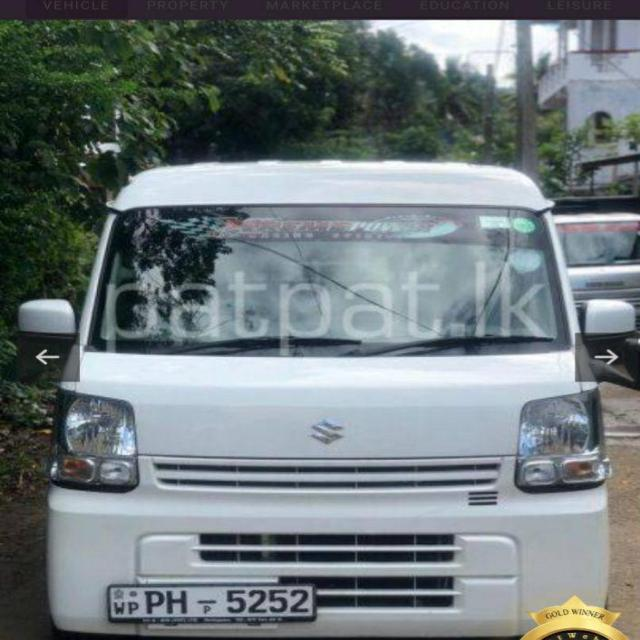license-plate: (107, 587, 311, 617)
